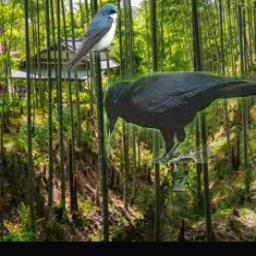Crow: (105, 72, 256, 164)
Swallow: (63, 4, 120, 71)
